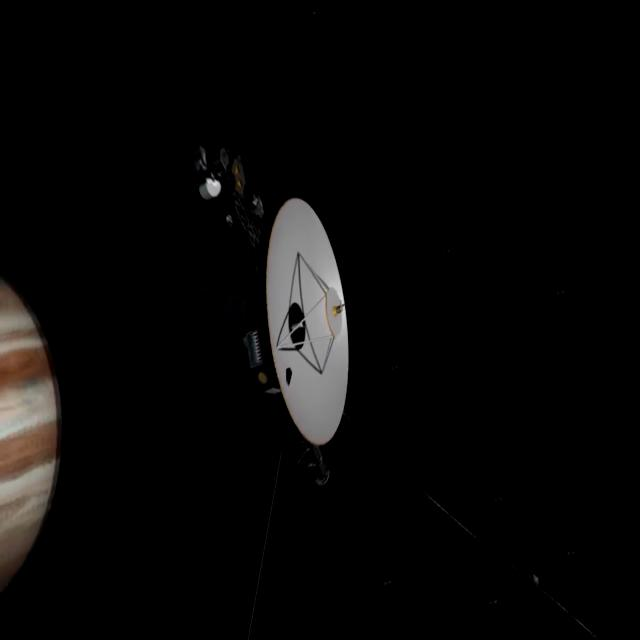satellite: (189, 46, 532, 640)
